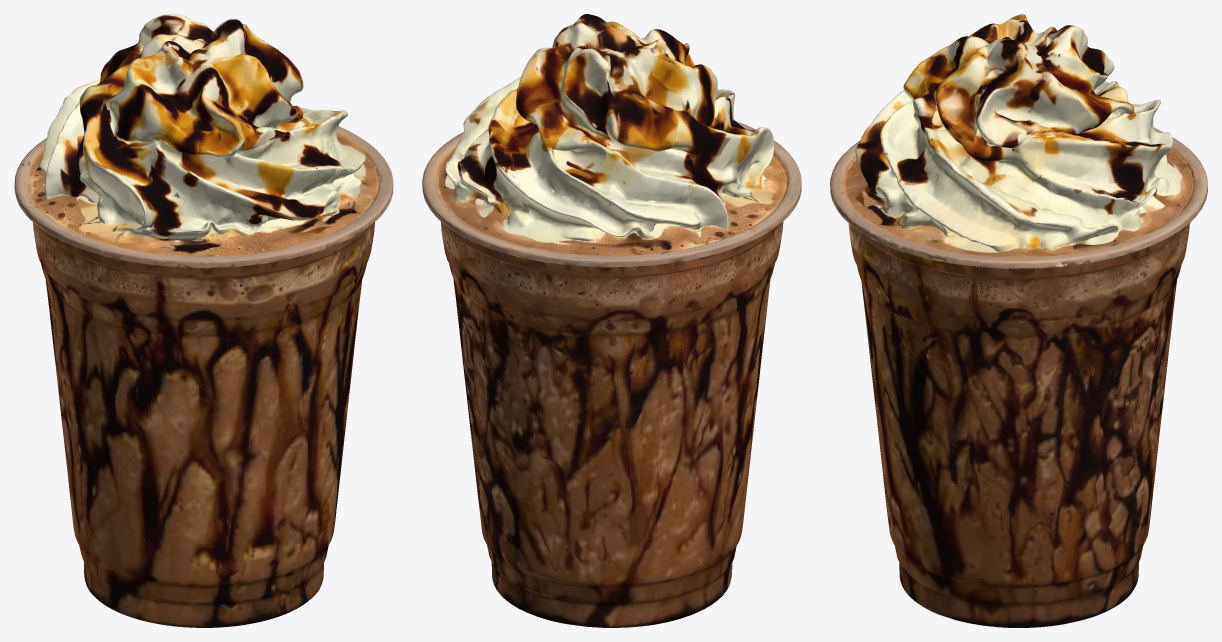
Rendered from smoky-mocha-freeze-web.glb.
The picture shows the model from 3 angles, left to right: view 1: azimuth 30°, elevation 25°; view 2: azimuth 150°, elevation 25°; view 3: azimuth 270°, elevation 25°; orthographic projection.
Bounding box in the file's own units: 1.24 × 2 × 1.24.
Materials: 1 (1 with a texture image).
